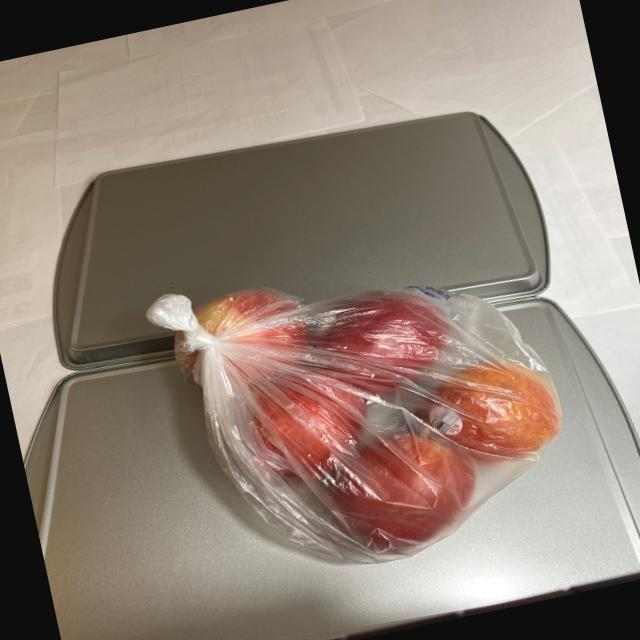apple: (164, 228, 592, 586)
